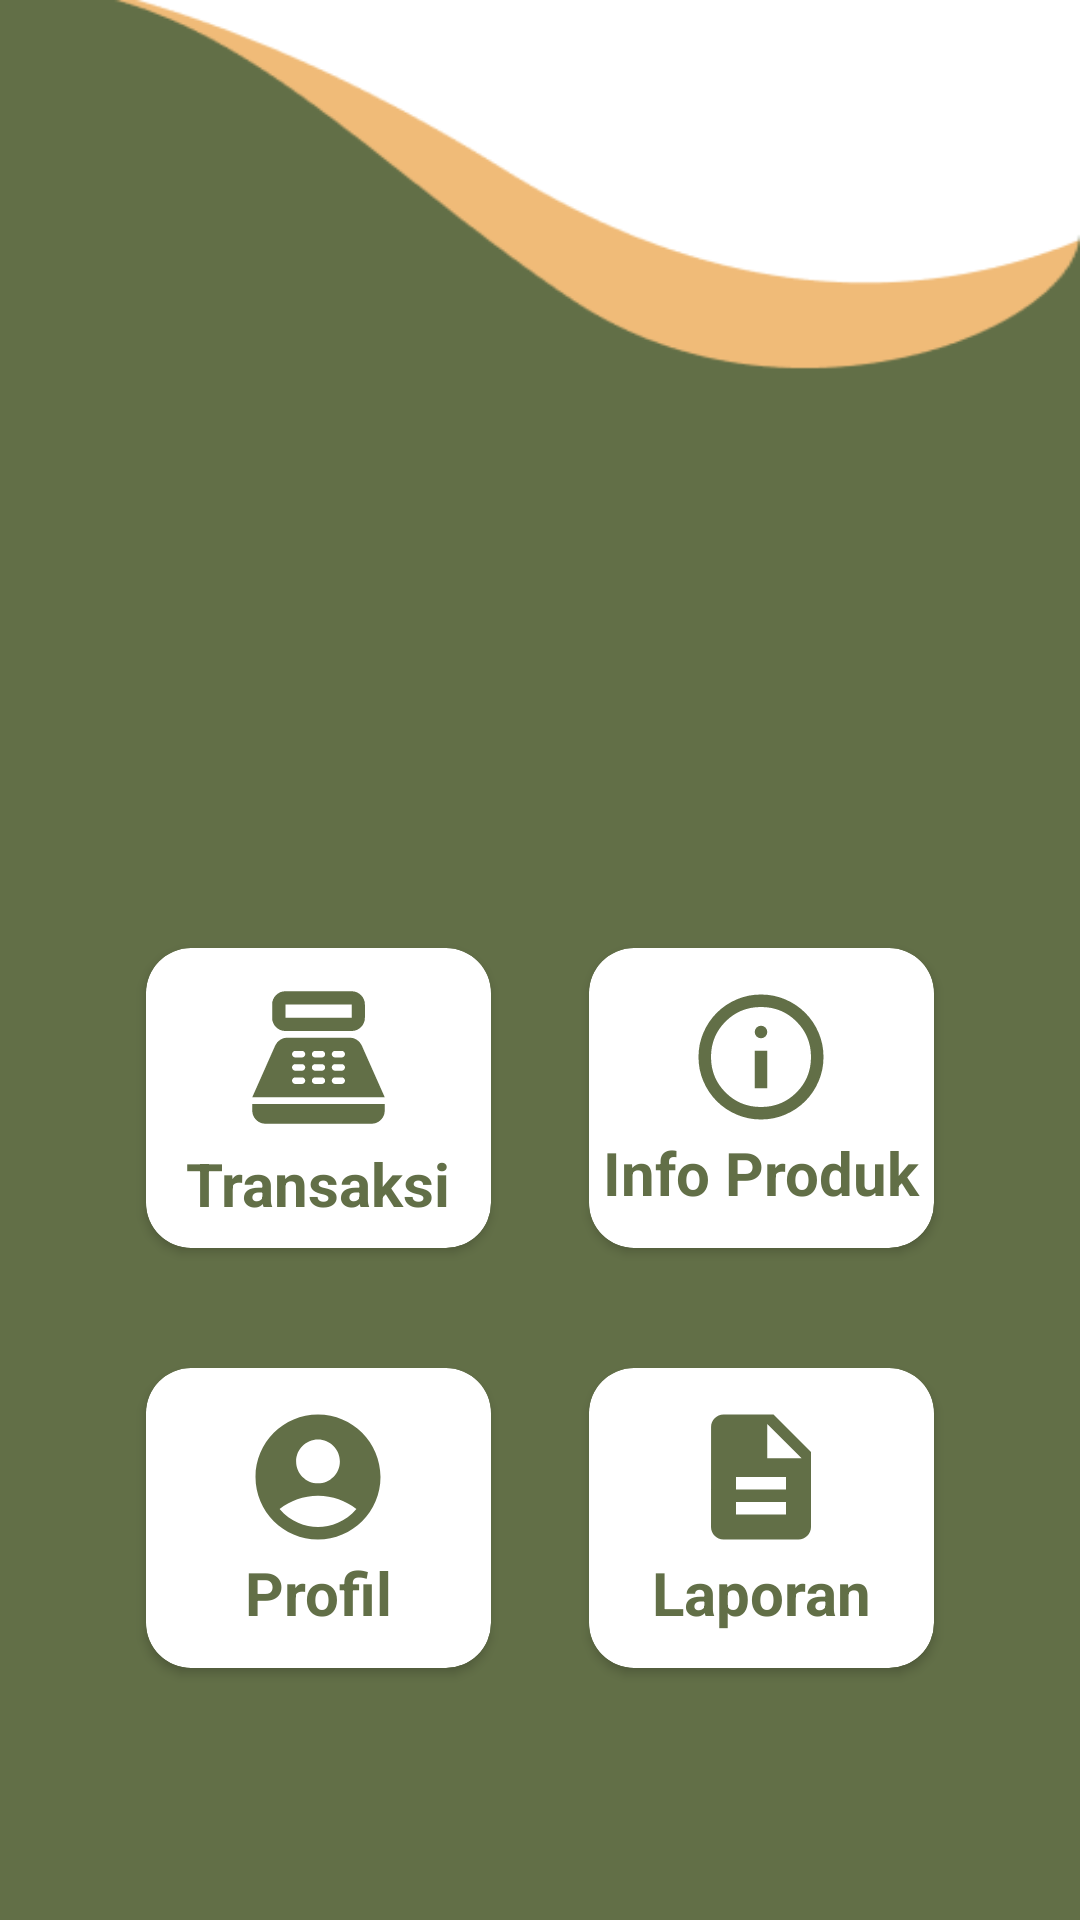

Locate icon controls on the screen. Image size 1080 x 1920, boxes as rect(x1, y1, x2, y2).
account circle: rect(255, 1414, 381, 1540)
description: rect(711, 1414, 811, 1540)
